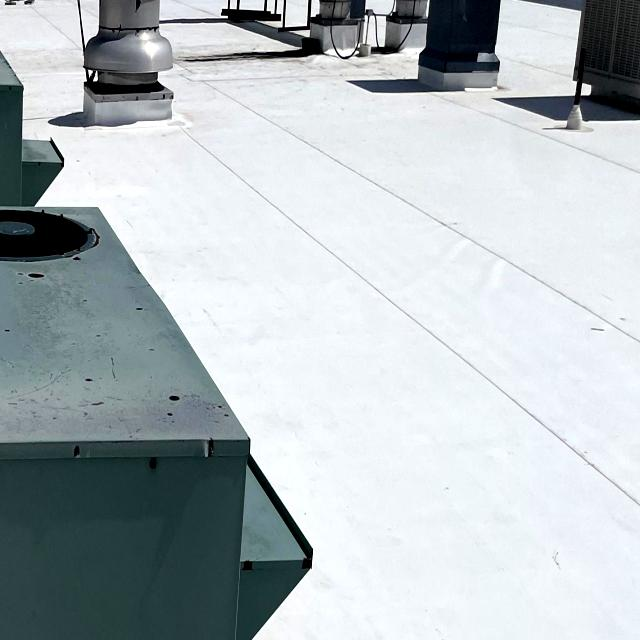RTU: (0, 192, 321, 640), (0, 36, 66, 216)
